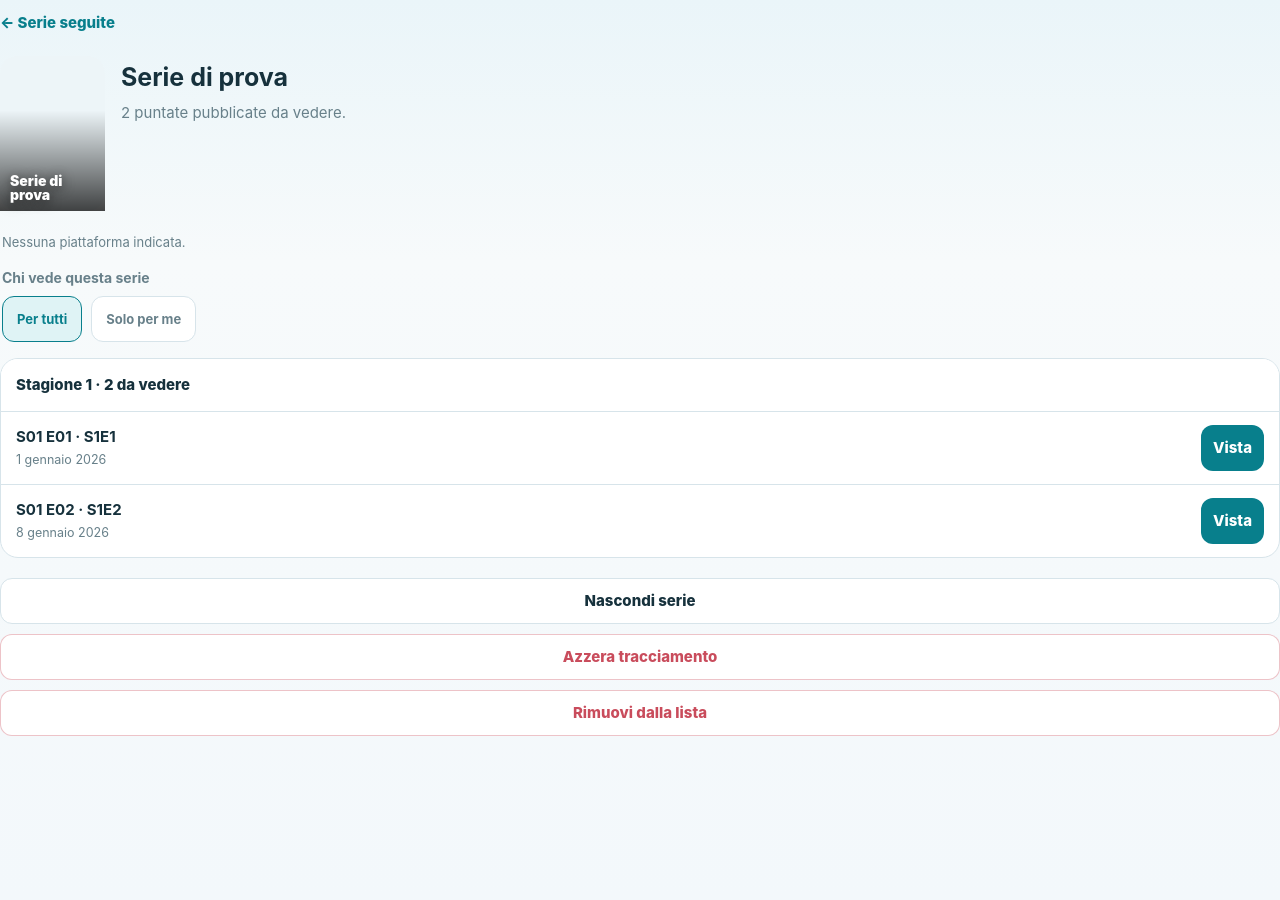
Scenario: ShowDetailView — visibilità di «Annulla ultima conferma» › non compare finché non c'è nulla da annullare, e appare dopo una conferma «Vista»
Click the button with class "mini" in the row of "S01 E01 · S1E1" at (1232,448), box [1201, 425, 1264, 471]
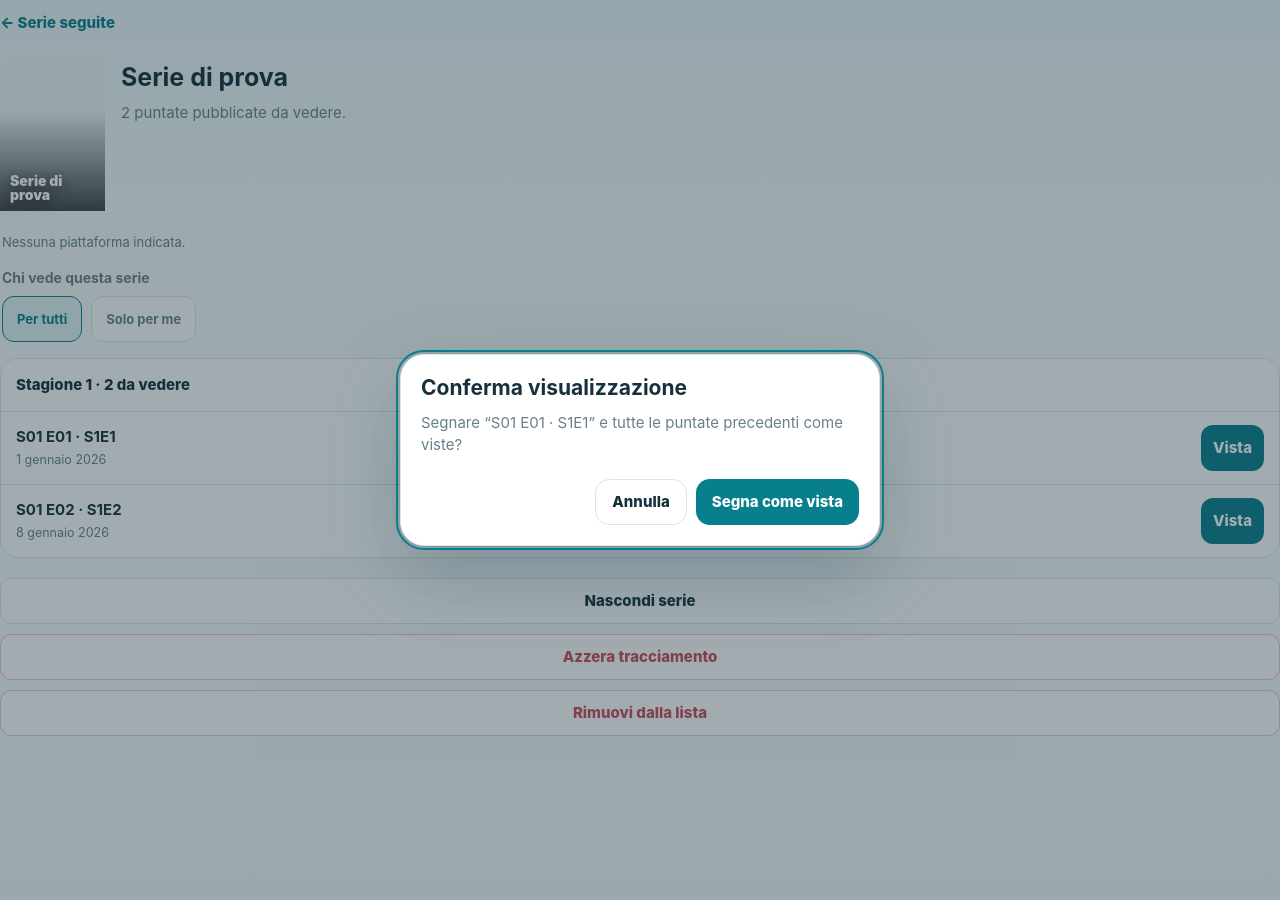
Click the button with class "accept-confirm" at (777,502), box [696, 479, 859, 525]
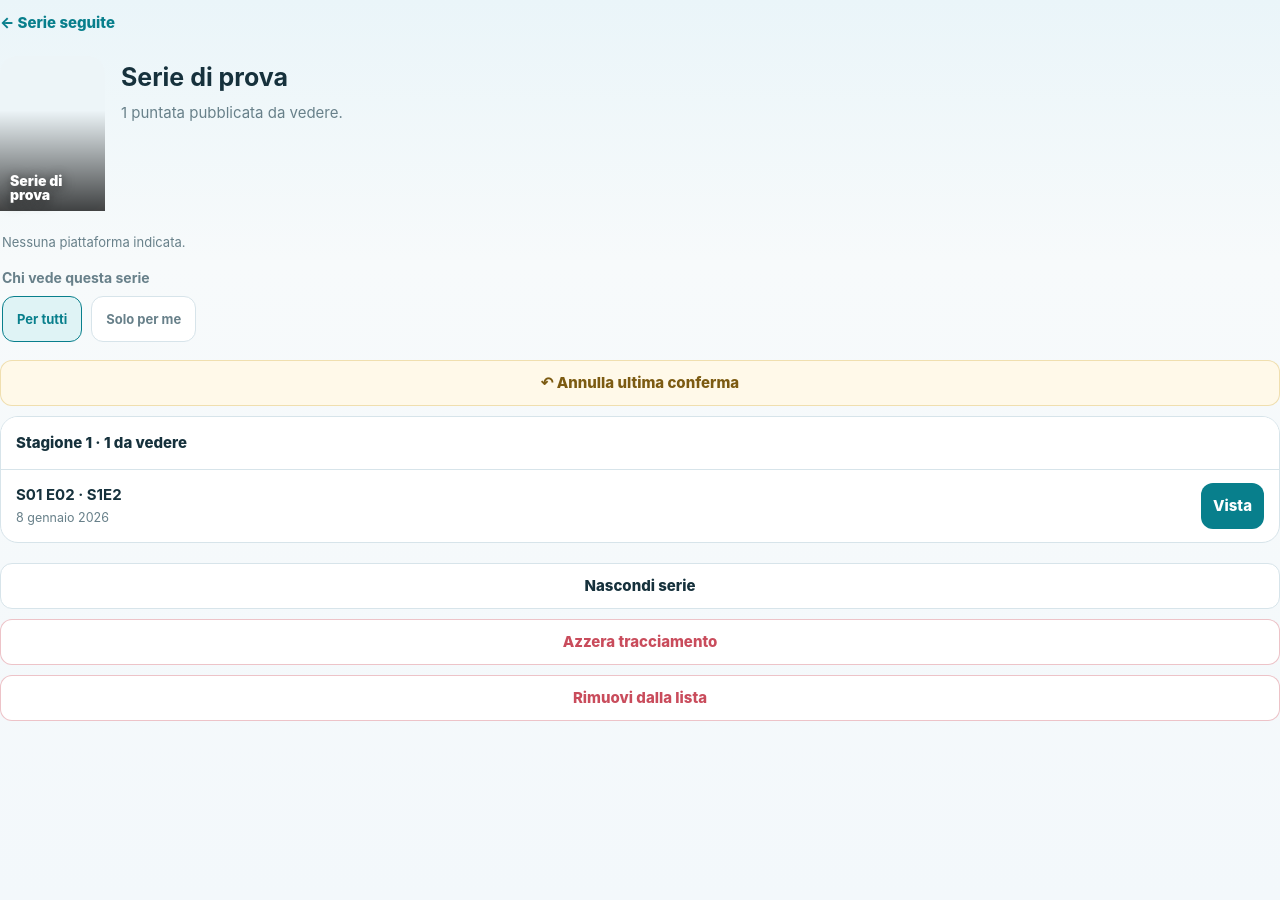
Expected: the button with class "undo" is shown, [0, 360, 1279, 406]
